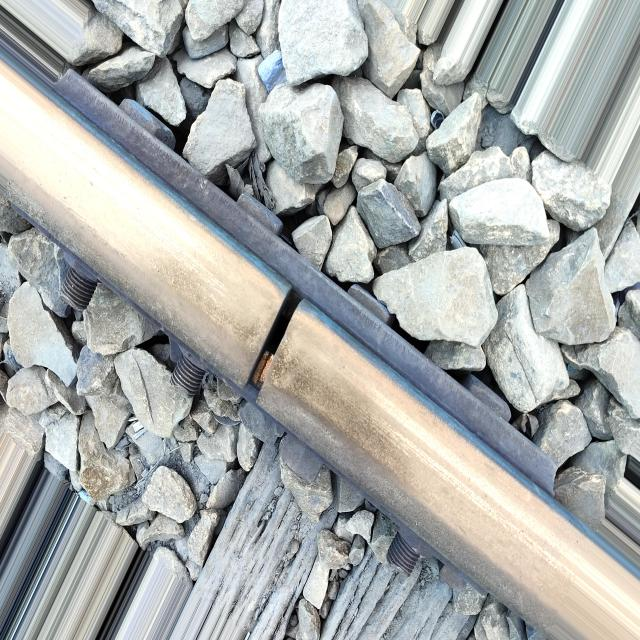crack: (222, 259, 322, 408)
